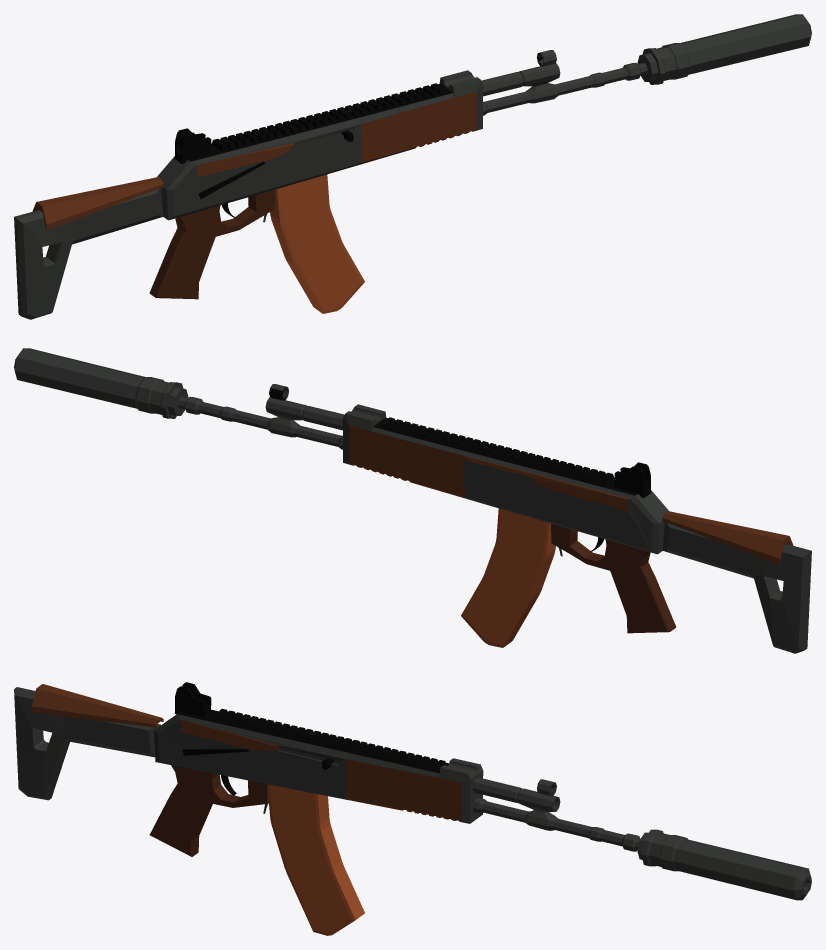
The picture shows the model from 3 angles, top to bottom: view 1: azimuth 30°, elevation 25°; view 2: azimuth 150°, elevation 25°; view 3: azimuth 330°, elevation 25°; orthographic projection.
Parts seen in each view (by area): view 1: Body, Magazine; view 2: Body, Magazine; view 3: Body, Magazine.
Part boxes in pixels (x1,y1,x2,y2): Body: [14, 14, 811, 319]; Magazine: [270, 174, 364, 313]; Body: [14, 348, 811, 653]; Magazine: [461, 508, 555, 647]; Body: [14, 682, 811, 900]; Magazine: [267, 784, 364, 935].
Bounding box in the file's own units: 1409 × 359 × 71.31.
Materials: 29 (29 with a texture image).
